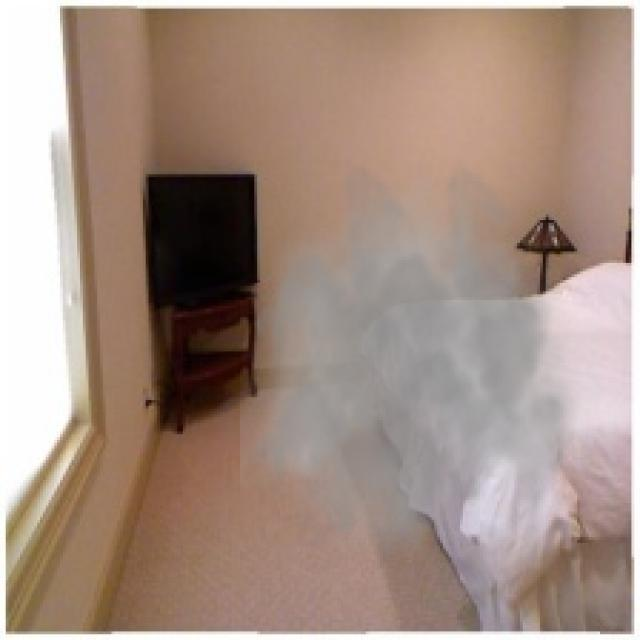Smoke: (240, 160, 606, 569)
